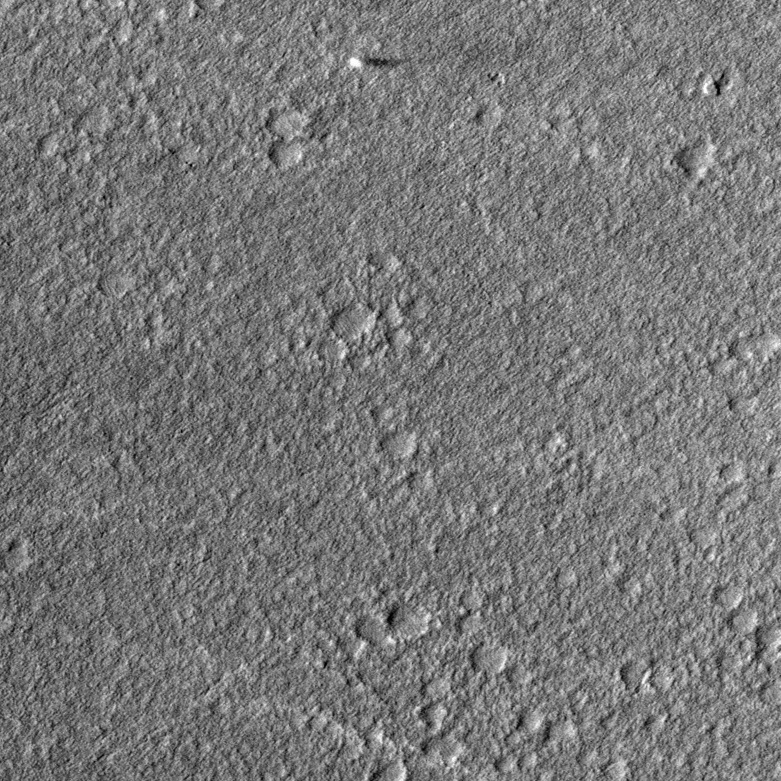dust_devil: (347, 55, 405, 70)
